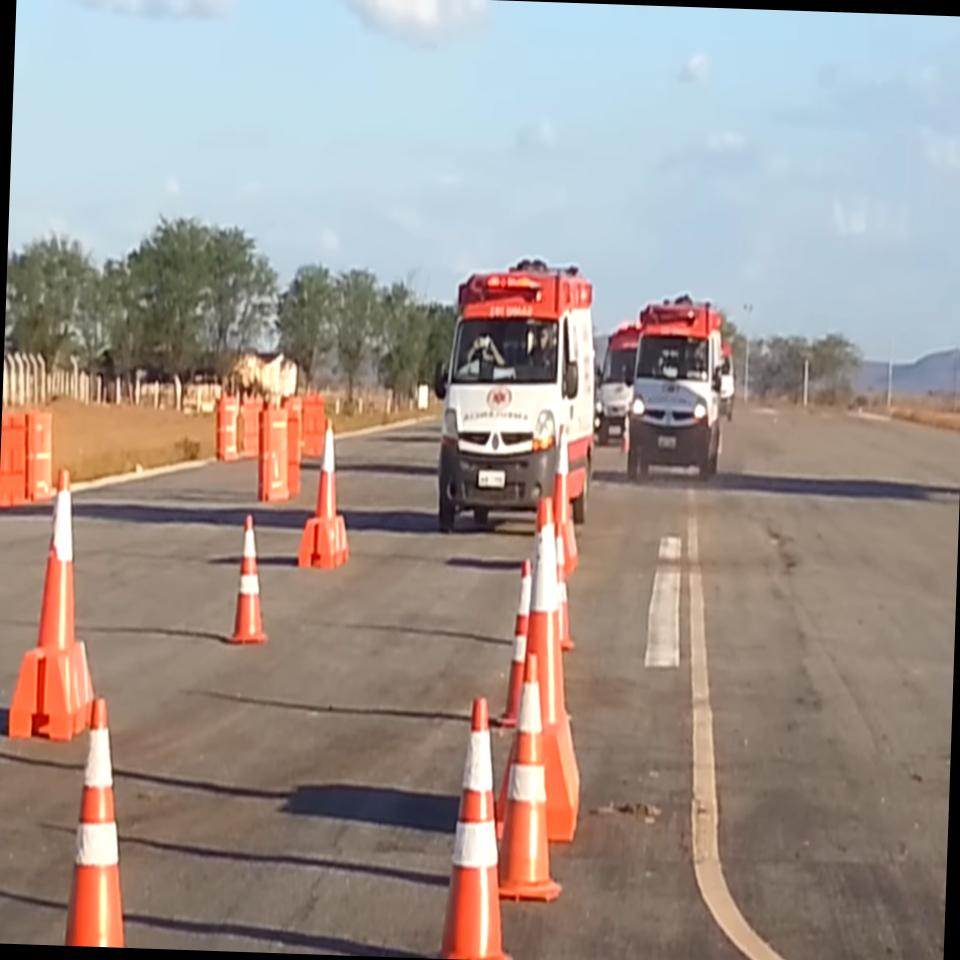bombeiro: (428, 256, 606, 539), (621, 292, 729, 482)
